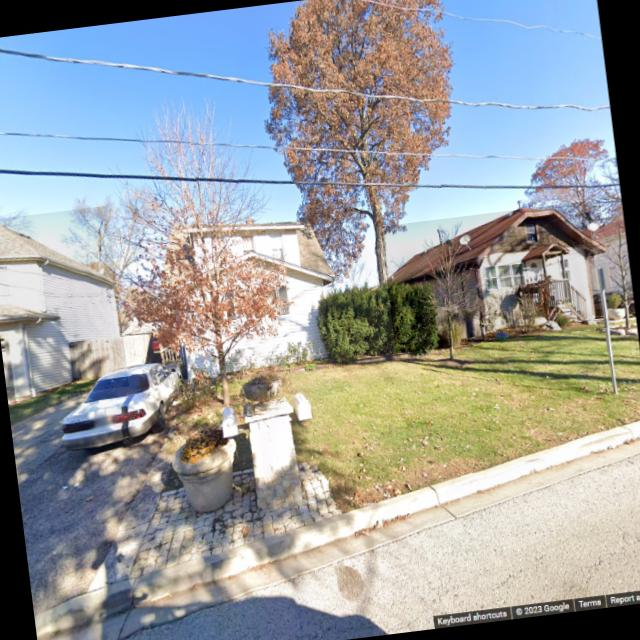House: (380, 199, 615, 353), (166, 205, 346, 382), (0, 205, 128, 401), (589, 216, 640, 318)
